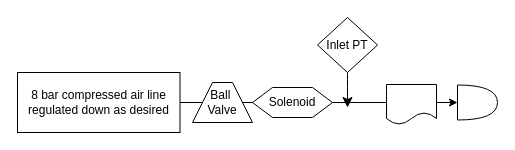
This 515x150 diagram has some shape labels left out. Each missing label, with the centre of its shape:
"End Cap" goes at (x=477, y=102).
"Particle Filter" goes at (x=411, y=104).
